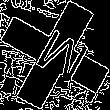M_SW: (23, 22, 87, 88)
